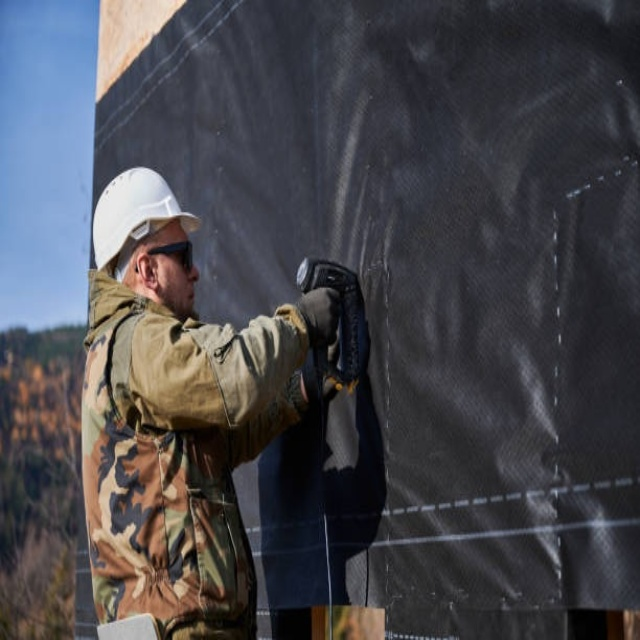Gafas: (135, 237, 196, 278)
Guantes: (293, 285, 345, 340)
Sin_mascara: (176, 278, 200, 316)
